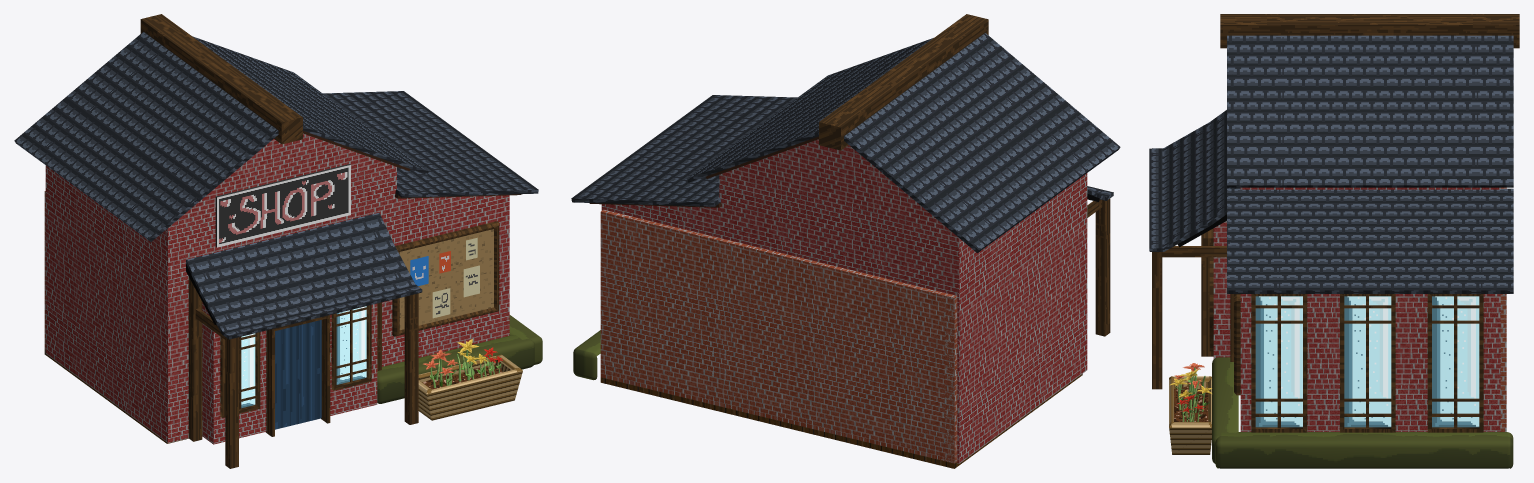
The model's file is SHop Version2.fbx.
3 renders of one model, left to right at view 1: azimuth 30°, elevation 25°; view 2: azimuth 150°, elevation 25°; view 3: azimuth 270°, elevation 25°, orthographic. The views are drawn at different scales.
Parts seen in each view (by area): view 1: Shop Base, Roofs, Beams, Shop Signs, Bulletin Board, Door, Mud, Hedges, Windows, Paper, Flower6, Flower5; view 2: polySurface3, Shop Base, Roofs, Beams, Floor, polySurface1, Hedges; view 3: Roofs, Shop Base, Hedges, Windows, Beams, Mud, polySurface3, Bulletin Board, Flower6.
Boxes of the visible parts, left/top/right/bottom form: Shop Base: left=45, top=133, right=509, bottom=444; Roofs: left=14, top=32, right=538, bottom=241; Beams: left=140, top=14, right=418, bottom=468; Shop Signs: left=215, top=164, right=350, bottom=247; Bulletin Board: left=392, top=221, right=499, bottom=336; Door: left=275, top=320, right=321, bottom=429; Mud: left=418, top=354, right=522, bottom=420; Hedges: left=377, top=315, right=542, bottom=403; Windows: left=220, top=305, right=371, bottom=417; Paper: left=410, top=237, right=479, bottom=318; Flower6: left=456, top=339, right=487, bottom=381; Flower5: left=423, top=349, right=458, bottom=387; polySurface3: left=600, top=212, right=957, bottom=463; Shop Base: left=601, top=139, right=1113, bottom=463; Roofs: left=571, top=33, right=1120, bottom=253; Beams: left=819, top=14, right=1110, bottom=336; Floor: left=600, top=374, right=1082, bottom=468; polySurface1: left=941, top=295, right=957, bottom=463; Hedges: left=573, top=330, right=600, bottom=380; Roofs: left=1227, top=35, right=1513, bottom=293; Shop Base: left=1149, top=110, right=1500, bottom=431; Hedges: left=1212, top=357, right=1513, bottom=468; Windows: left=1209, top=242, right=1483, bottom=432; Beams: left=1152, top=14, right=1519, bottom=389; Mud: left=1169, top=376, right=1211, bottom=454; polySurface3: left=1500, top=187, right=1506, bottom=431; Bulletin Board: left=1234, top=294, right=1240, bottom=395; Flower6: left=1170, top=369, right=1211, bottom=416.
Size of the model in its own units: 340 by 260 by 263.
24 materials, 20 textured.
